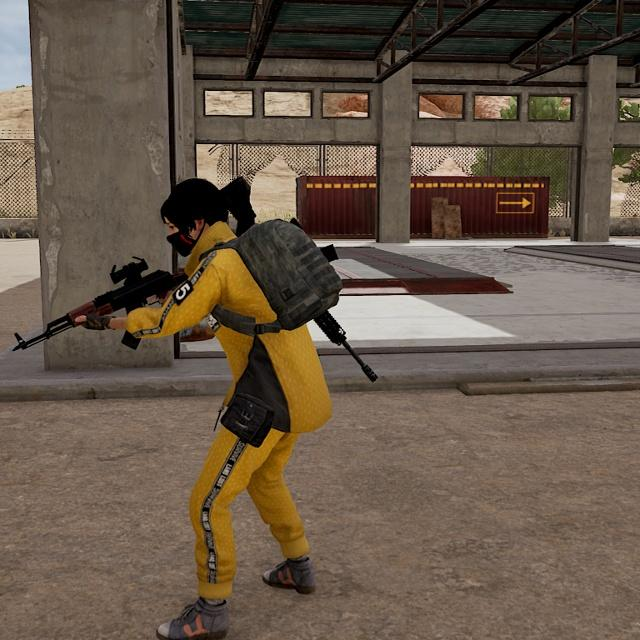head: (158, 175, 235, 260)
people: (145, 173, 334, 640)
